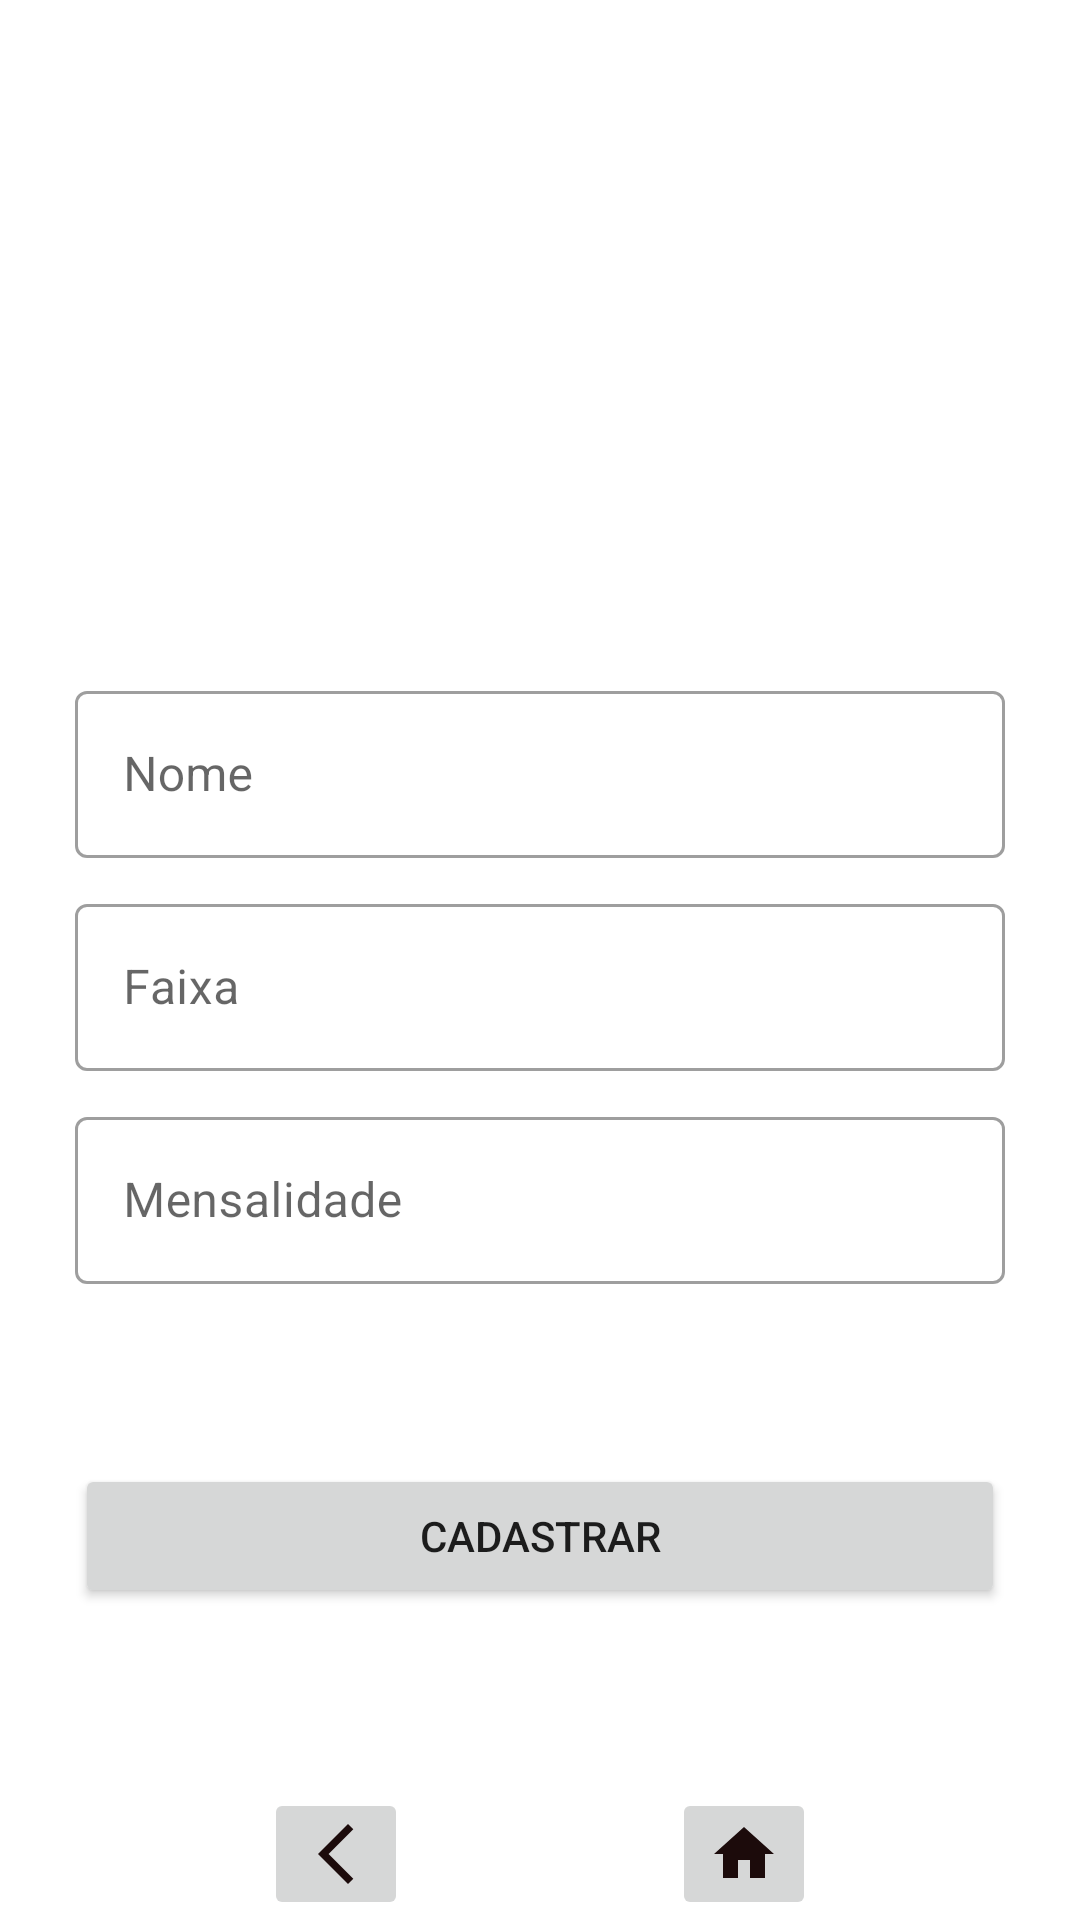

Named icons in this screenshot (1080 × 1920) and their bounding boxes, [x1, y1, x2, y2]:
home: [684, 1806, 804, 1902]
iconback: [276, 1806, 396, 1902]
